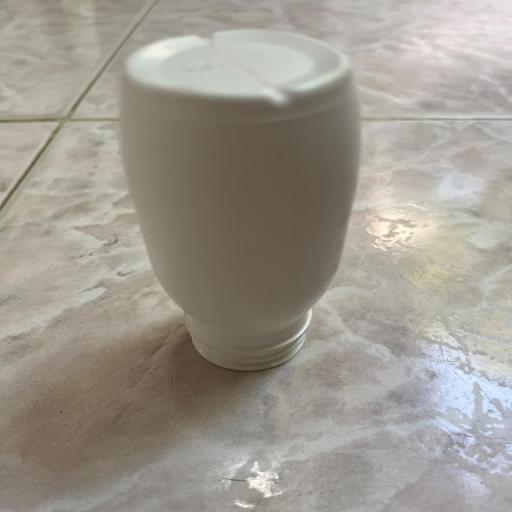HDPE: (102, 29, 388, 390)
